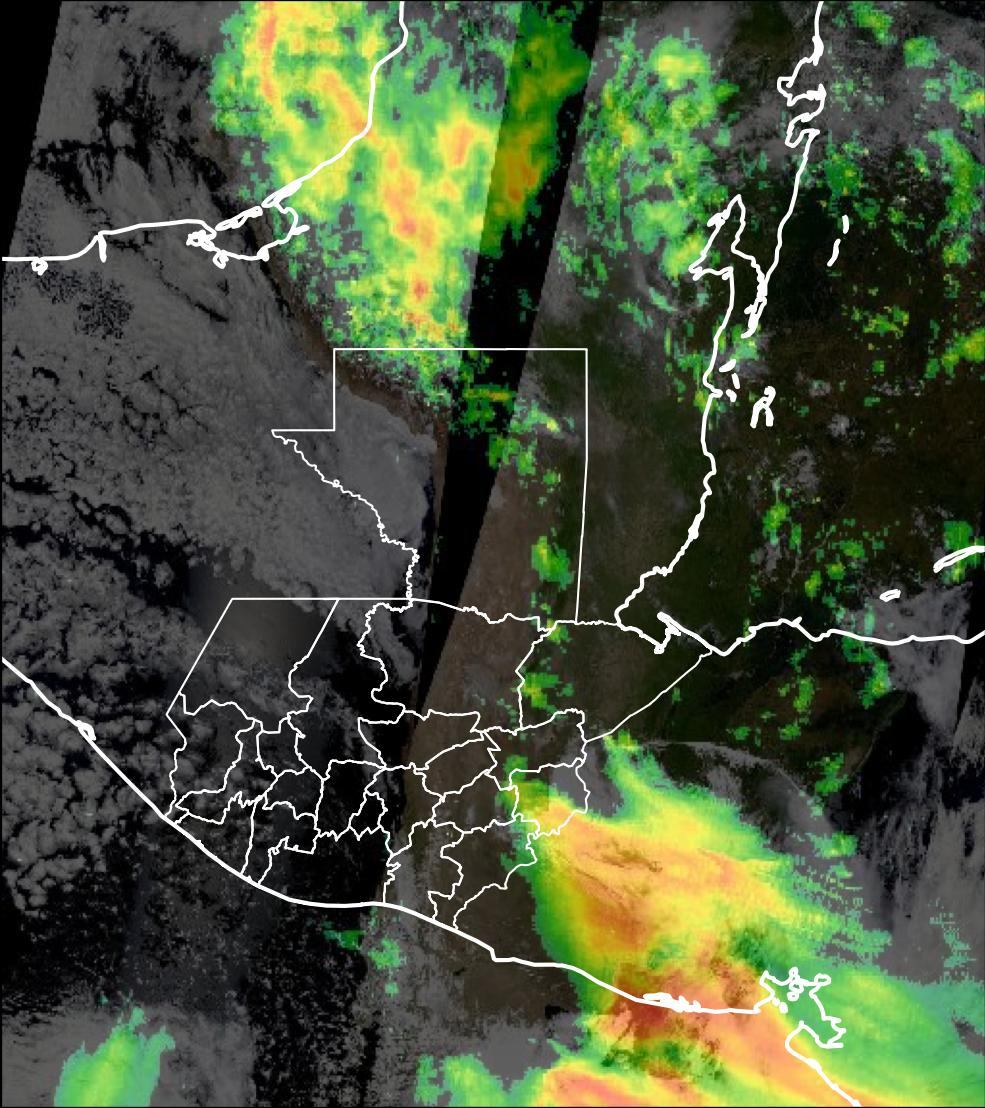precipitacion: (539, 784, 850, 972), (573, 957, 933, 1108)
